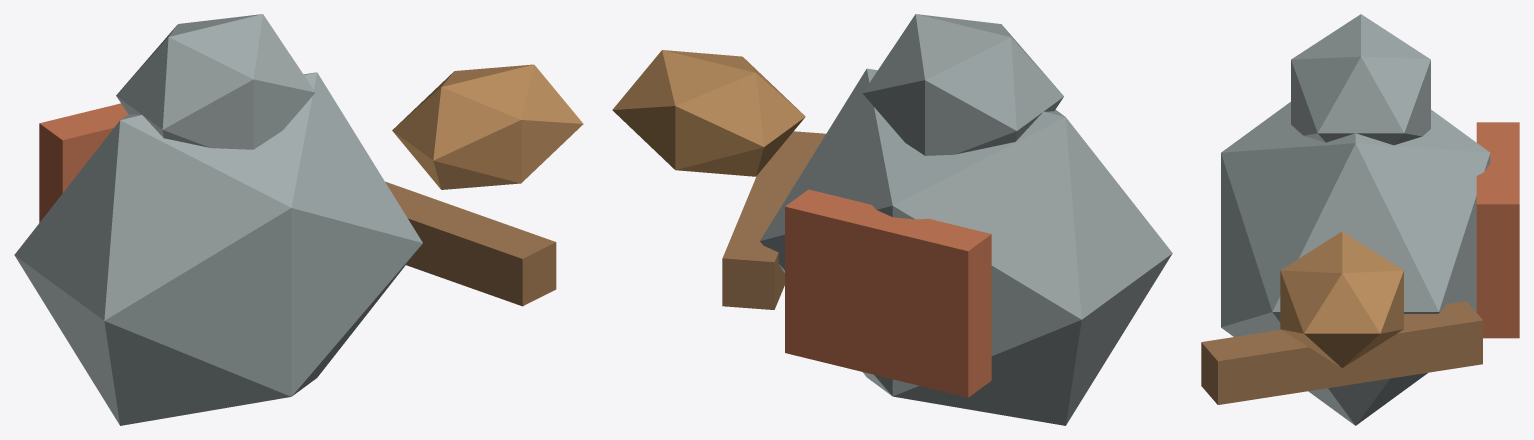
Rendered from enemy_brute.glb.
3 renders of one model, left to right at view 1: azimuth 30°, elevation 25°; view 2: azimuth 150°, elevation 25°; view 3: azimuth 270°, elevation 25°, orthographic. The views are drawn at different scales.
Visible parts, largest first — view 1: body, head, club_head, club, chest_plate; view 2: body, chest_plate, head, club_head, club; view 3: body, club, head, club_head, chest_plate.
Boxes of the visible parts, bbox=[...] form: body: bbox=[14, 72, 422, 425]; head: bbox=[116, 14, 315, 149]; club_head: bbox=[392, 64, 583, 189]; club: bbox=[385, 181, 556, 306]; chest_plate: bbox=[39, 103, 127, 222]; body: bbox=[760, 68, 1172, 425]; chest_plate: bbox=[785, 189, 991, 397]; head: bbox=[862, 14, 1063, 155]; club_head: bbox=[612, 50, 805, 176]; club: bbox=[722, 131, 825, 309]; body: bbox=[1221, 102, 1490, 425]; club: bbox=[1201, 301, 1482, 404]; head: bbox=[1291, 14, 1430, 145]; club_head: bbox=[1280, 231, 1403, 368]; chest_plate: bbox=[1476, 122, 1519, 338].
Size of the model in its own units: 1.97 by 1.42 by 1.18.
